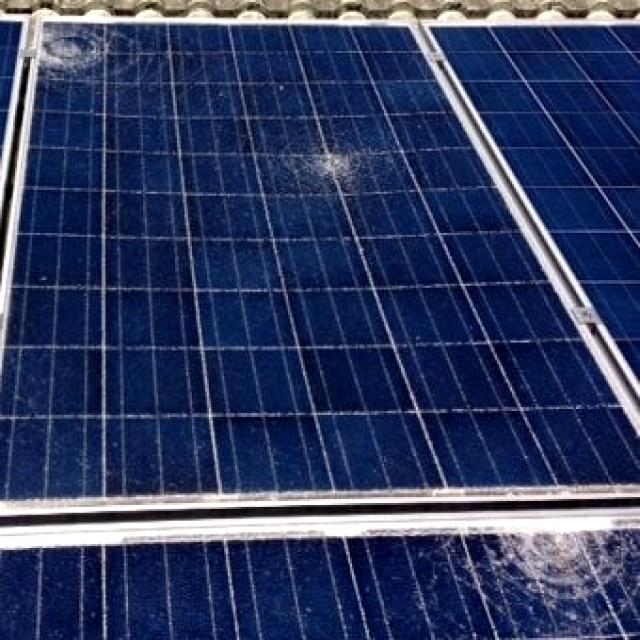hotspot: (446, 511, 638, 640), (6, 8, 132, 107), (284, 105, 396, 193)
